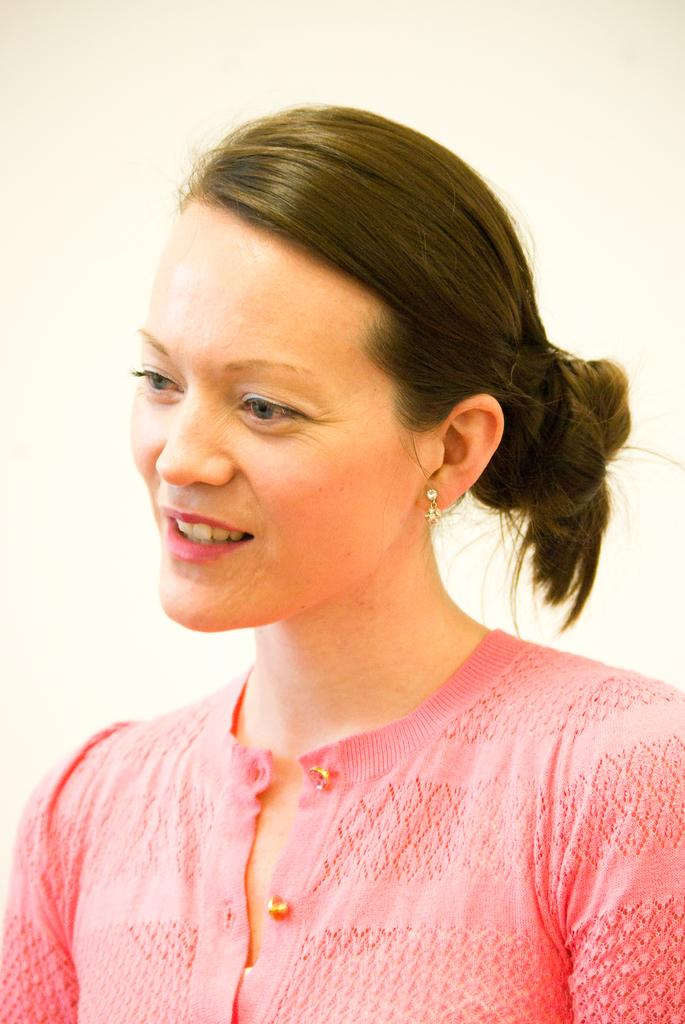earring: (419, 479, 442, 525)
